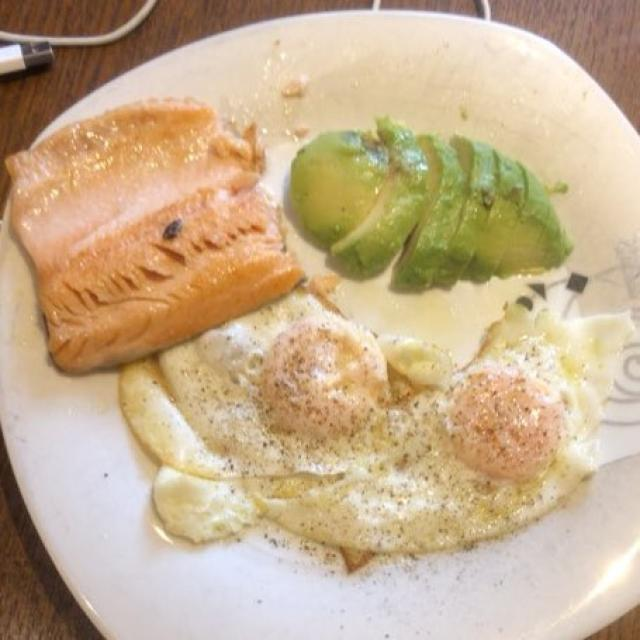avocado: (284, 122, 558, 282)
egg: (106, 280, 634, 563)
